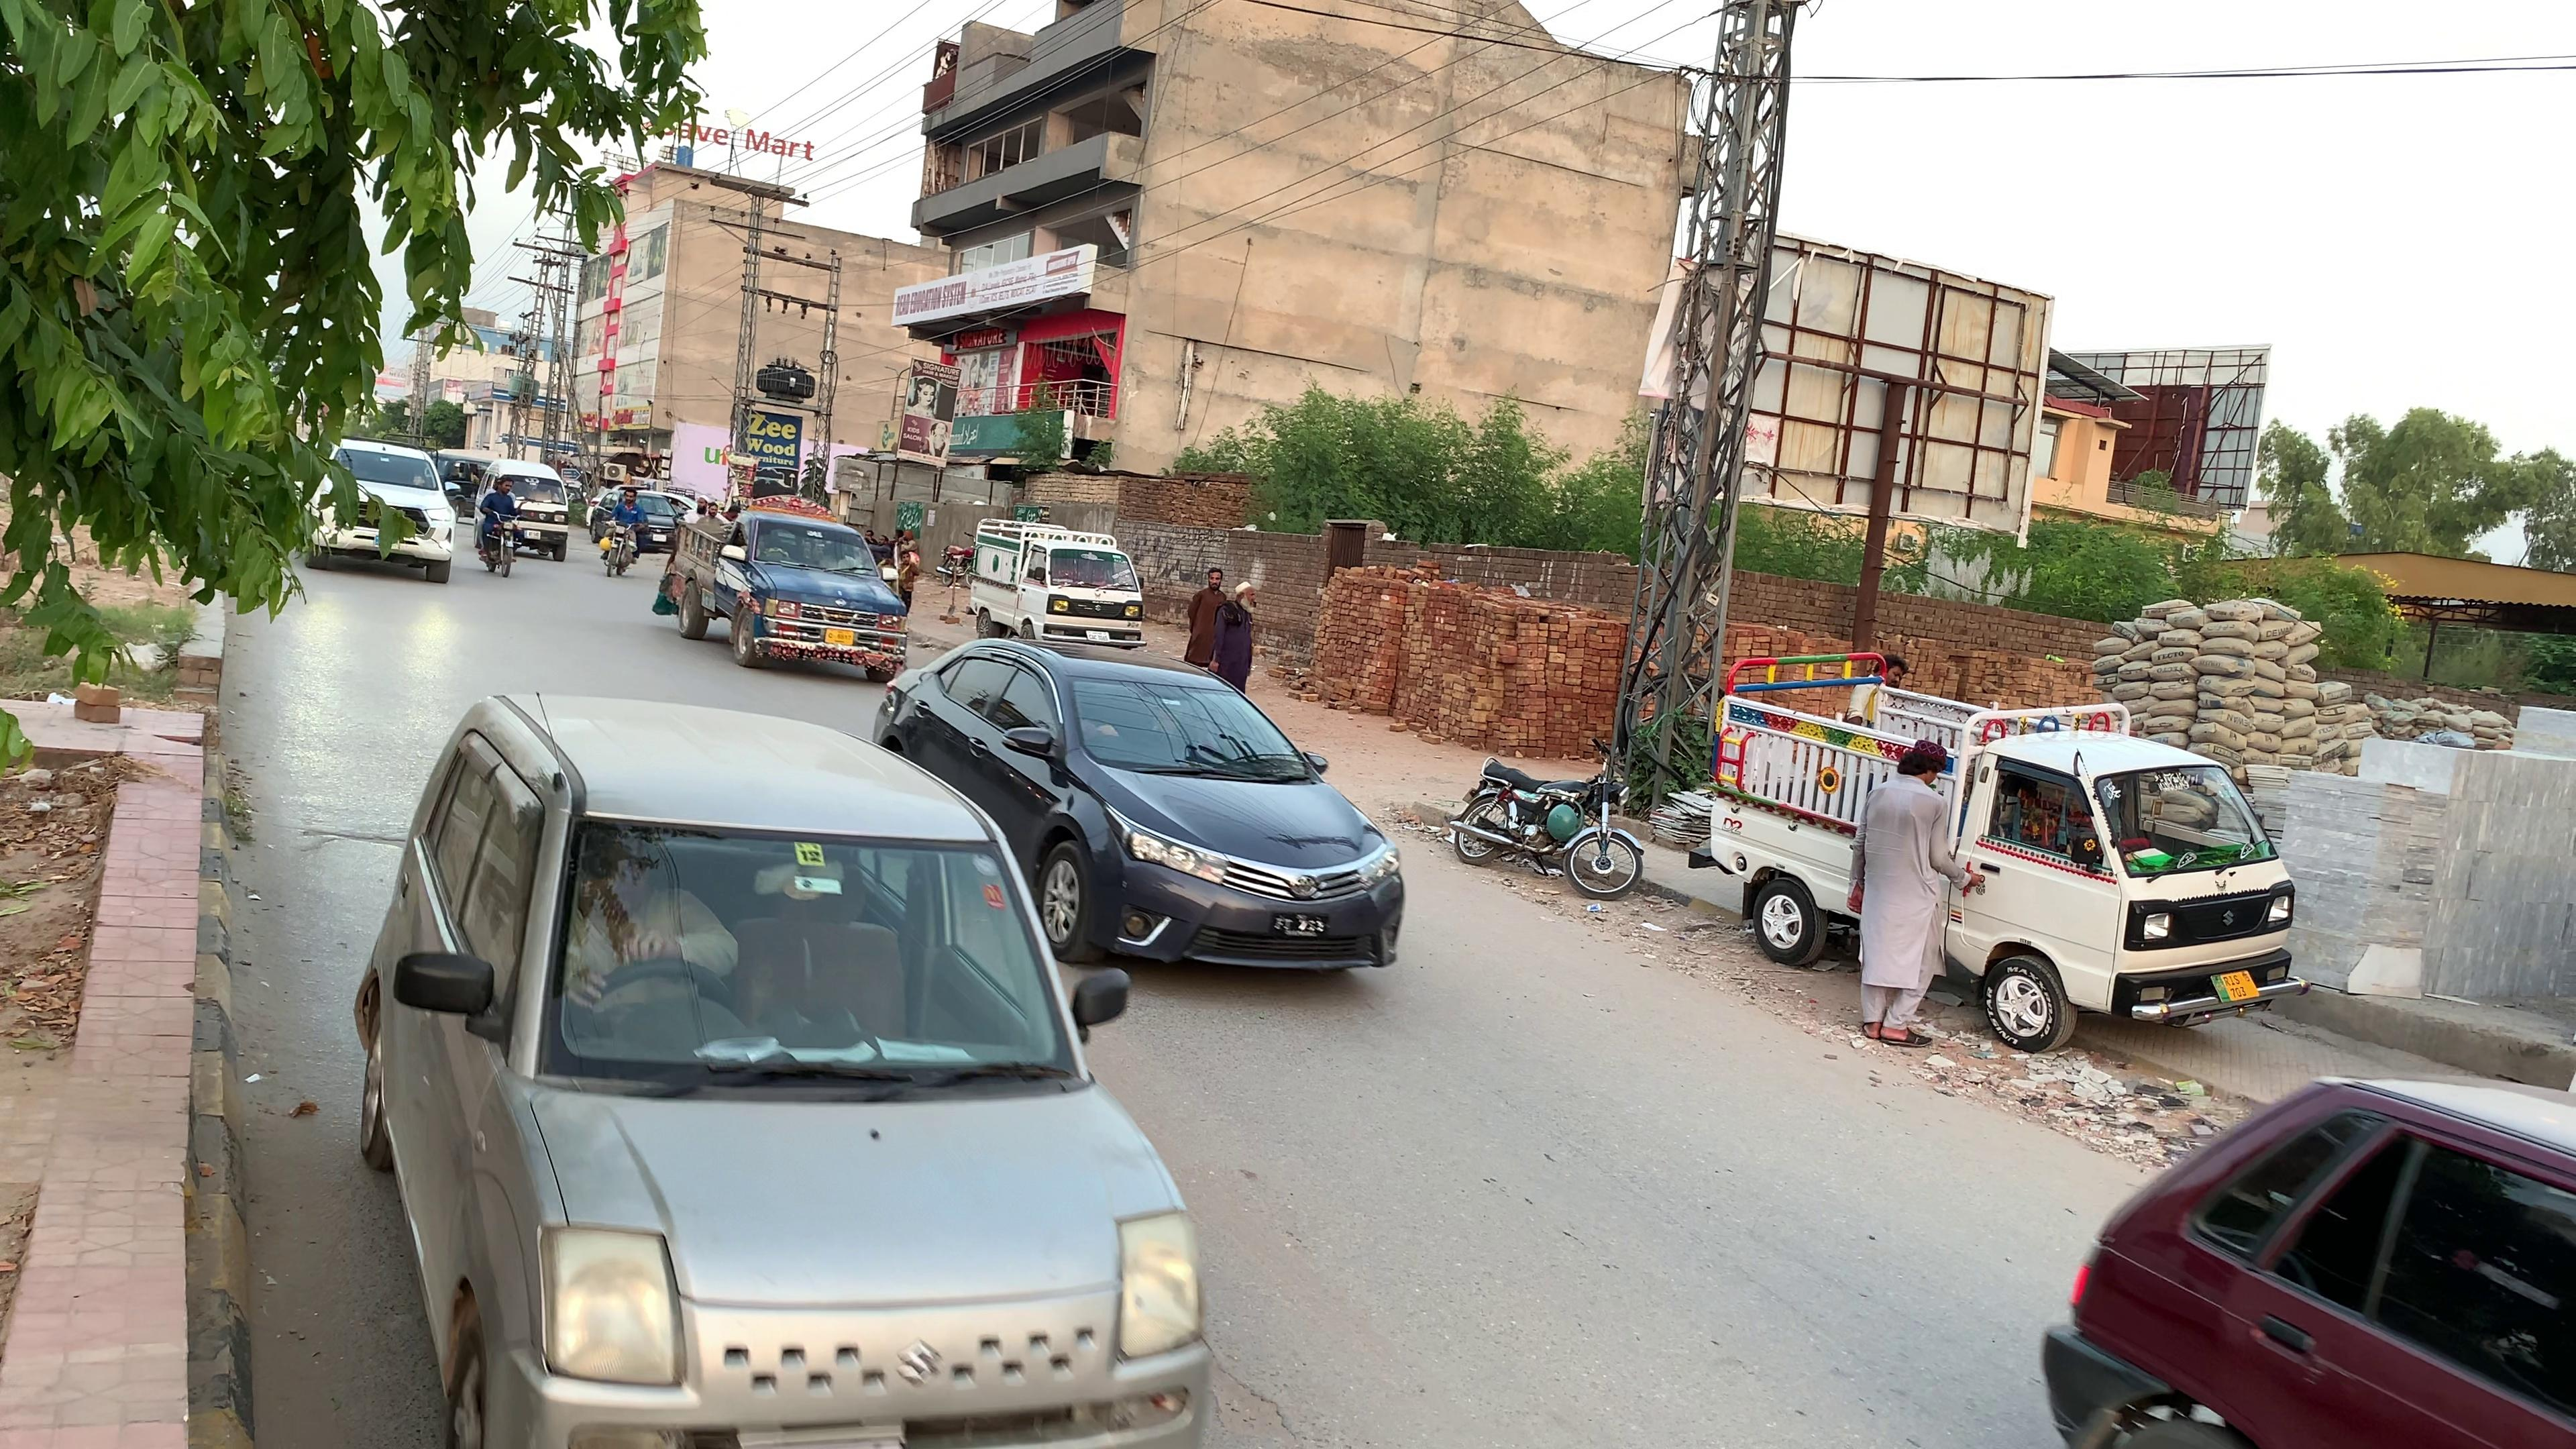windshield: (520, 801, 1097, 1116), (1065, 671, 1322, 778)
